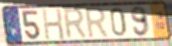0: (109, 7, 128, 39)
5: (20, 9, 42, 42)
9: (129, 5, 152, 39)
H: (40, 8, 66, 41)
R: (85, 6, 111, 41), (63, 7, 89, 41)
